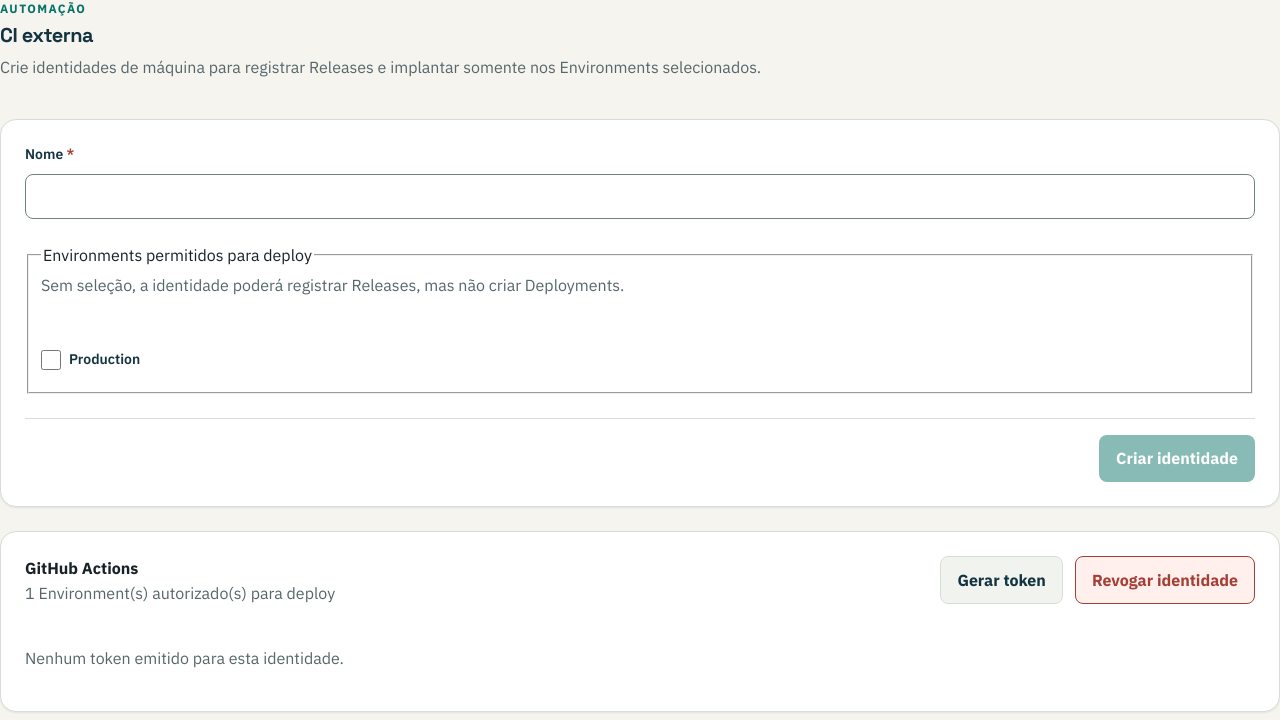
Test: external CI settings › scopes the identity and displays a credential only after creation
Expected: the text "GitHub Actions" is shown, top-left (25, 558), bottom-right (138, 578)
Expected: the text "one-time-secret" is not shown
Step 1. Type "Release pipeline" into the field labelled "Nome" → (640, 196), box top-left (25, 174), bottom-right (1255, 219)
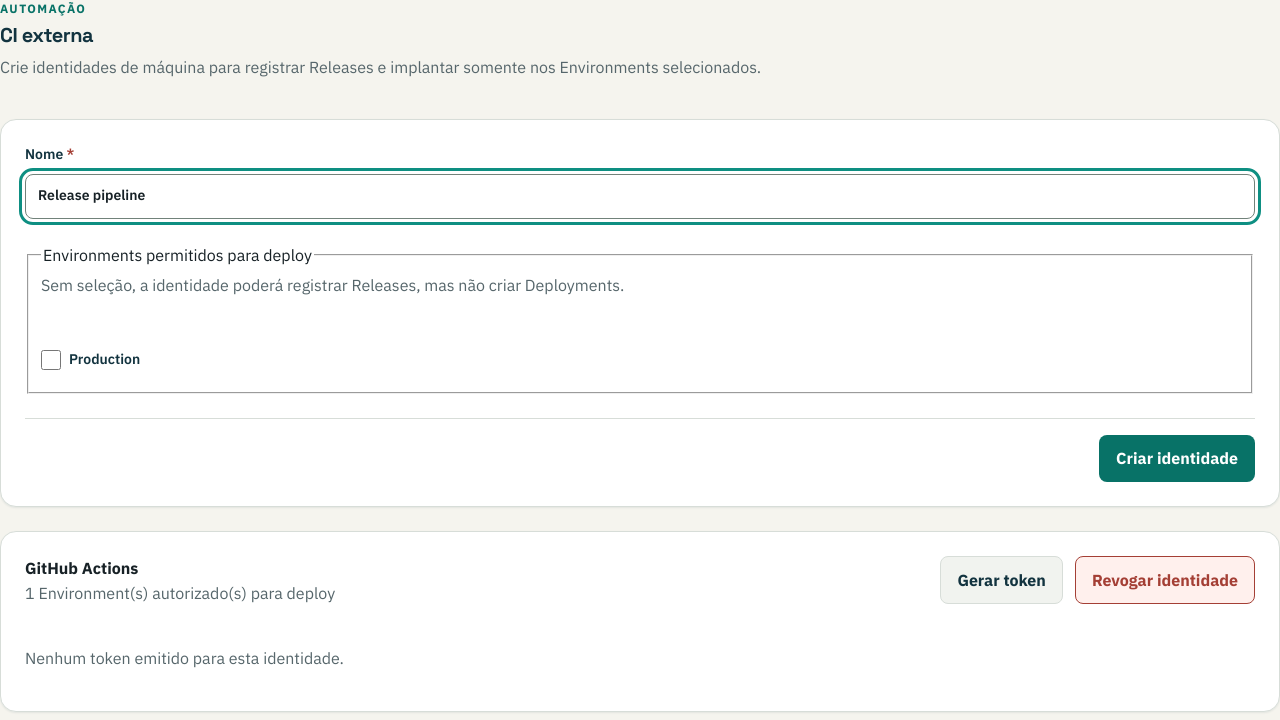
Step 2. Click the checkbox labelled "Production" → (51, 360), box top-left (41, 350), bottom-right (61, 370)
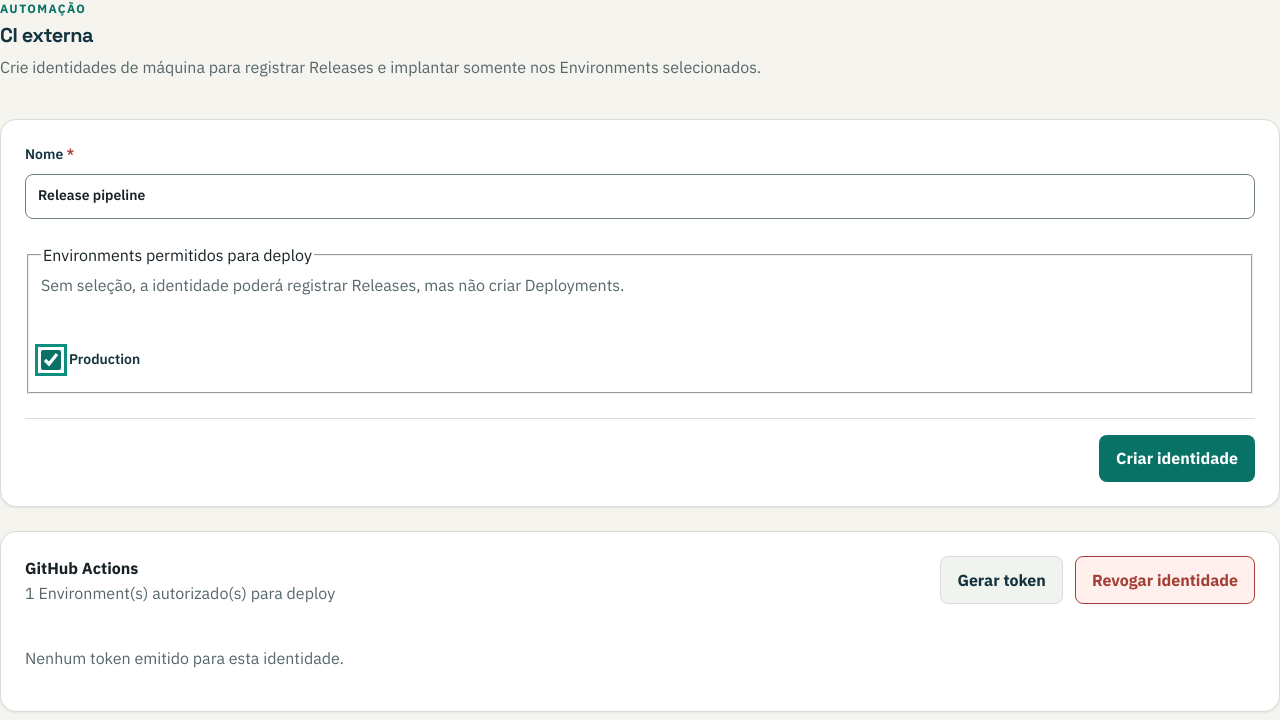
Step 3. Click the button "Criar identidade" → (1177, 458), box top-left (1099, 435), bottom-right (1255, 482)
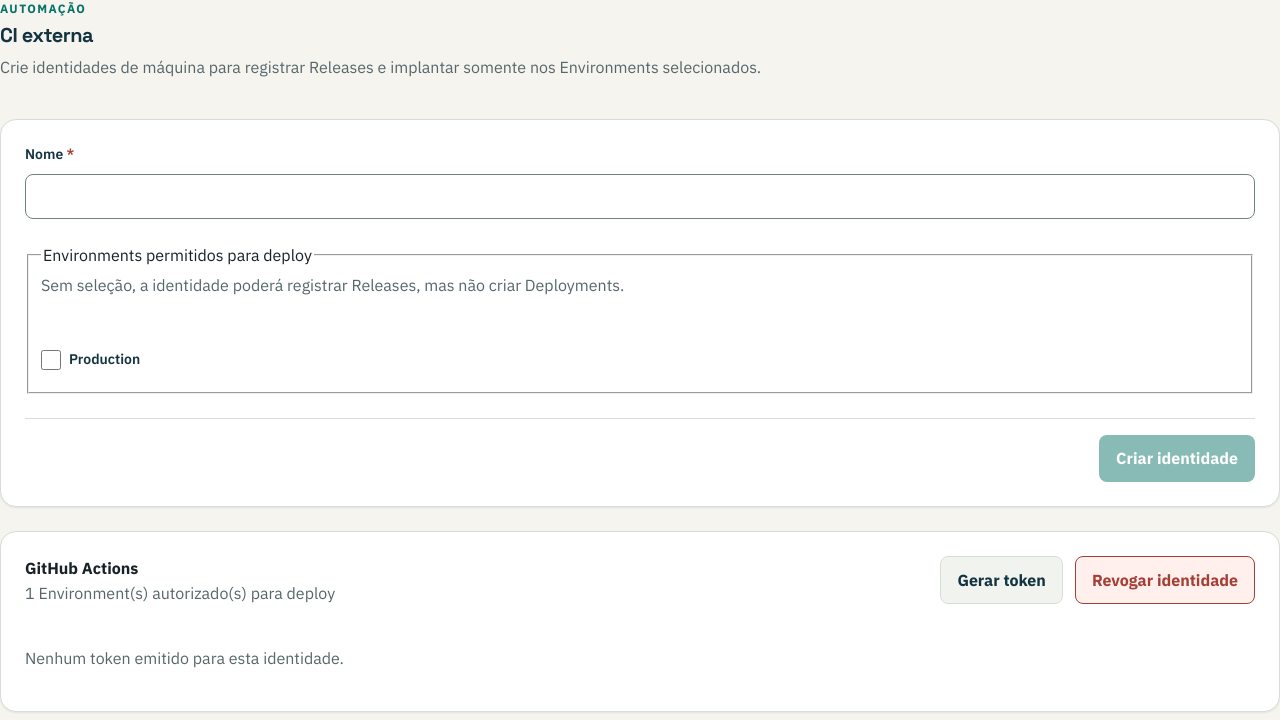
Step 4. Click the button "Gerar token" → (1002, 580), box top-left (940, 556), bottom-right (1063, 604)
(page scrolled)
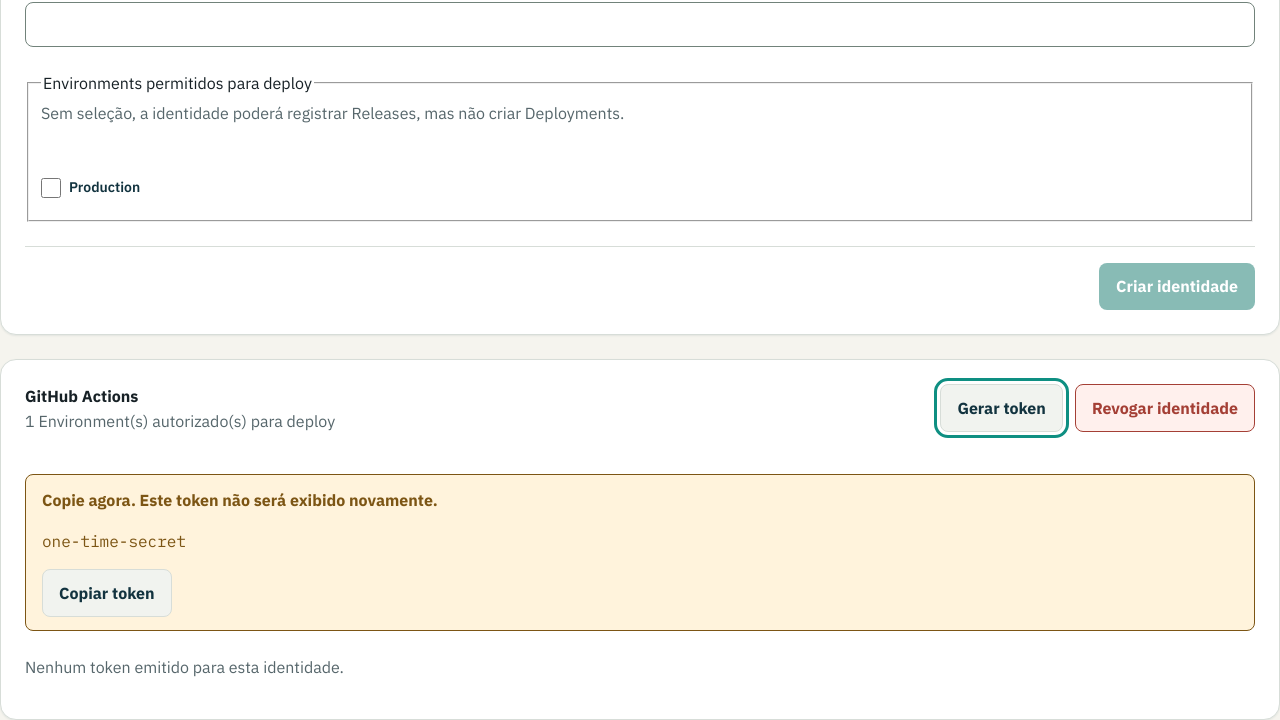
Now the text "one-time-secret" is shown, box top-left (42, 530), bottom-right (186, 550)
